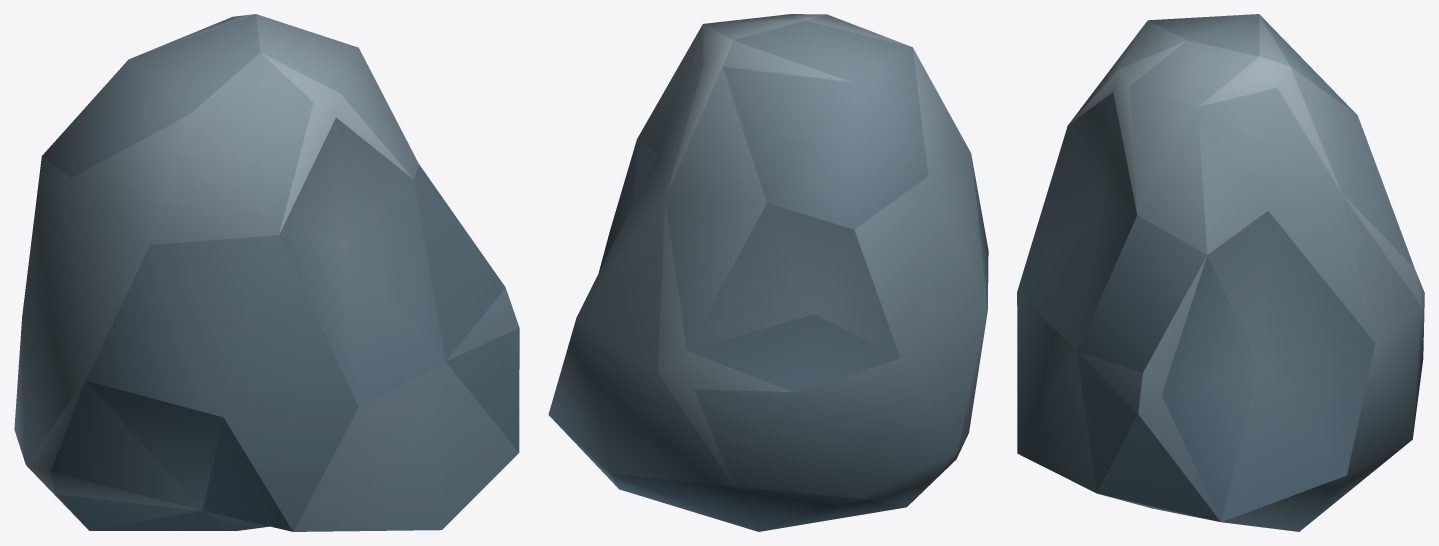
Rendered from Iron_Nugget_Large.glb.
The picture shows the model from 3 angles, left to right: view 1: azimuth 30°, elevation 25°; view 2: azimuth 150°, elevation 25°; view 3: azimuth 270°, elevation 25°; orthographic projection. The views are drawn at different scales.
Visible parts, largest first — view 1: Iron_Nugget_Large; view 2: Iron_Nugget_Large; view 3: Iron_Nugget_Large.
Boxes of the visible parts, x1,y1,x2,y2 form: Iron_Nugget_Large: [14, 14, 519, 531]; Iron_Nugget_Large: [548, 14, 988, 531]; Iron_Nugget_Large: [1017, 14, 1424, 531].
Bounding box in the file's own units: 0.4271 × 0.4656 × 0.3947.
Materials: 1 (1 with a texture image).
